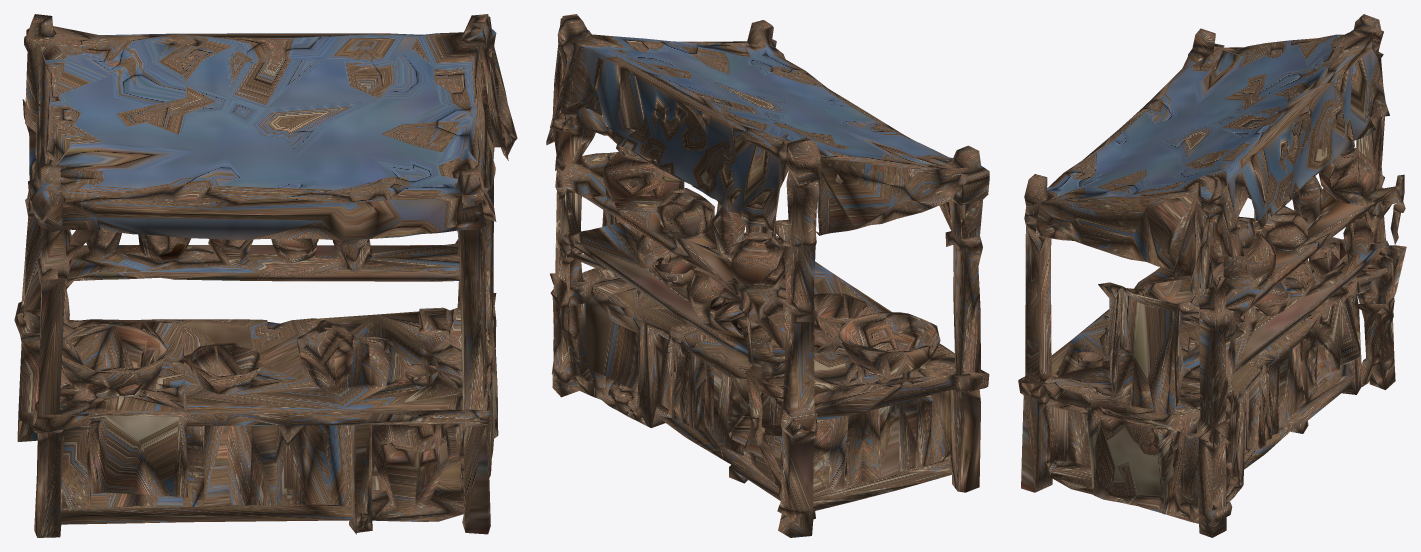
File: pottery-market-stall-pixal3d.glb
3 views of the same model, side by side, from view 1: azimuth 30°, elevation 25°; view 2: azimuth 150°, elevation 25°; view 3: azimuth 270°, elevation 25° (orthographic). The views are drawn at different scales.
Visible parts, largest first — view 1: geometry_0; view 2: geometry_0; view 3: geometry_0.
Boxes of the visible parts, x1,y1,x2,y2 form: geometry_0: (14, 14, 517, 537); geometry_0: (546, 14, 989, 537); geometry_0: (1018, 14, 1406, 537).
Size of the model in its own units: 3.3 by 2.8 by 2.69.
Materials: 1 (1 with a texture image).
